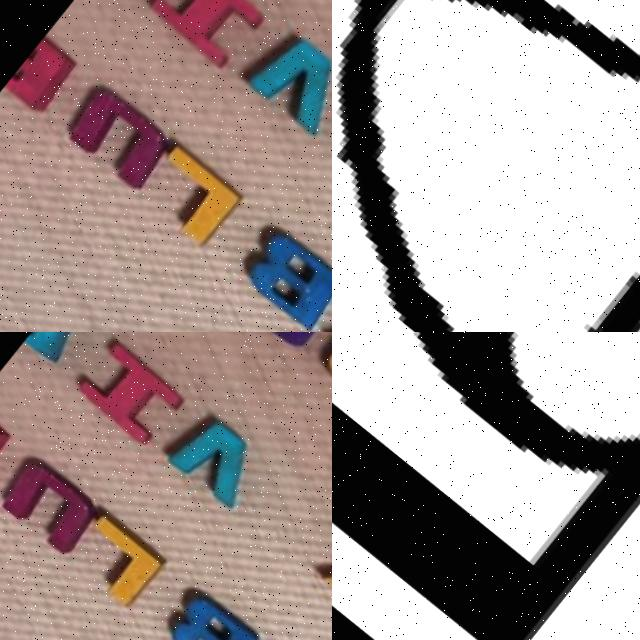5: (332, 332, 640, 640)
B: (234, 218, 332, 331), (156, 582, 267, 640)
D: (332, 0, 640, 332)
E: (4, 35, 80, 115)
G: (218, 332, 332, 353)
I: (69, 333, 189, 448), (140, 0, 264, 66)
L: (64, 508, 170, 612), (138, 143, 240, 243)
P: (20, 332, 86, 364)
U: (60, 81, 172, 190), (0, 447, 102, 555)
V: (239, 18, 332, 133), (166, 409, 264, 506)
